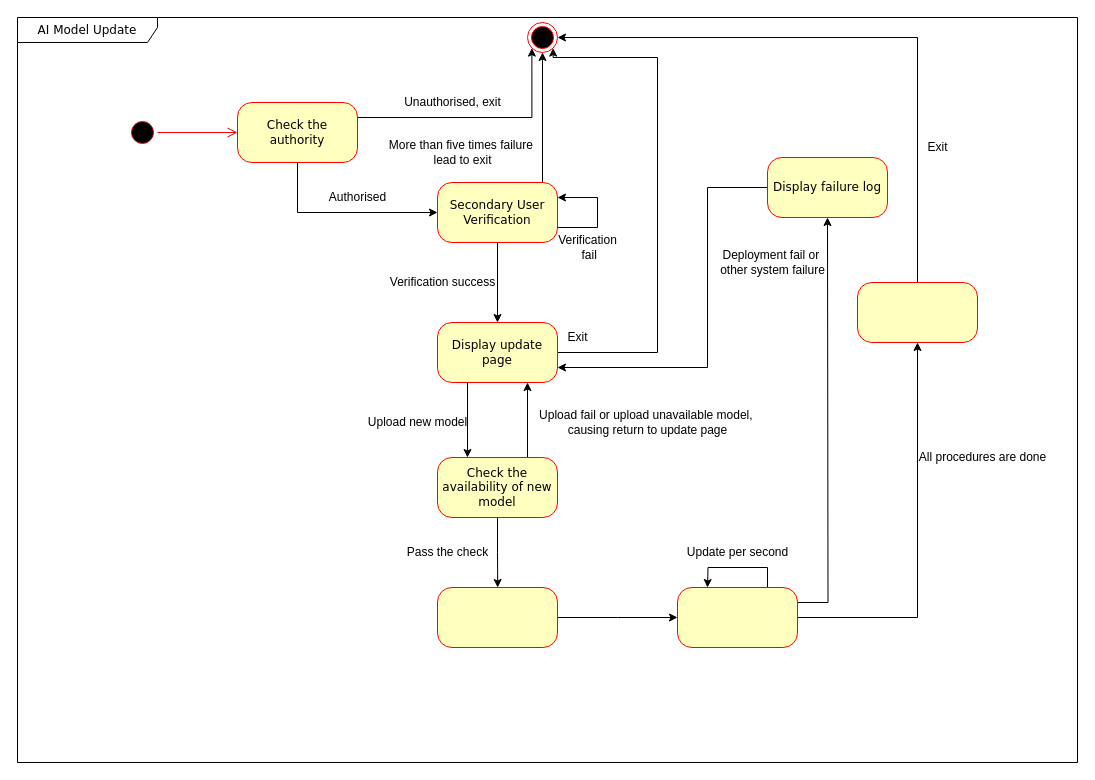
This 1095x780 diagram has some shape labels left out. Each missing label, with the centre of its shape:
"Display the progress regularly" goes at point (737, 617).
"Model update success" goes at point (917, 312).
"Replace the existing model with the new one" goes at point (497, 617).
